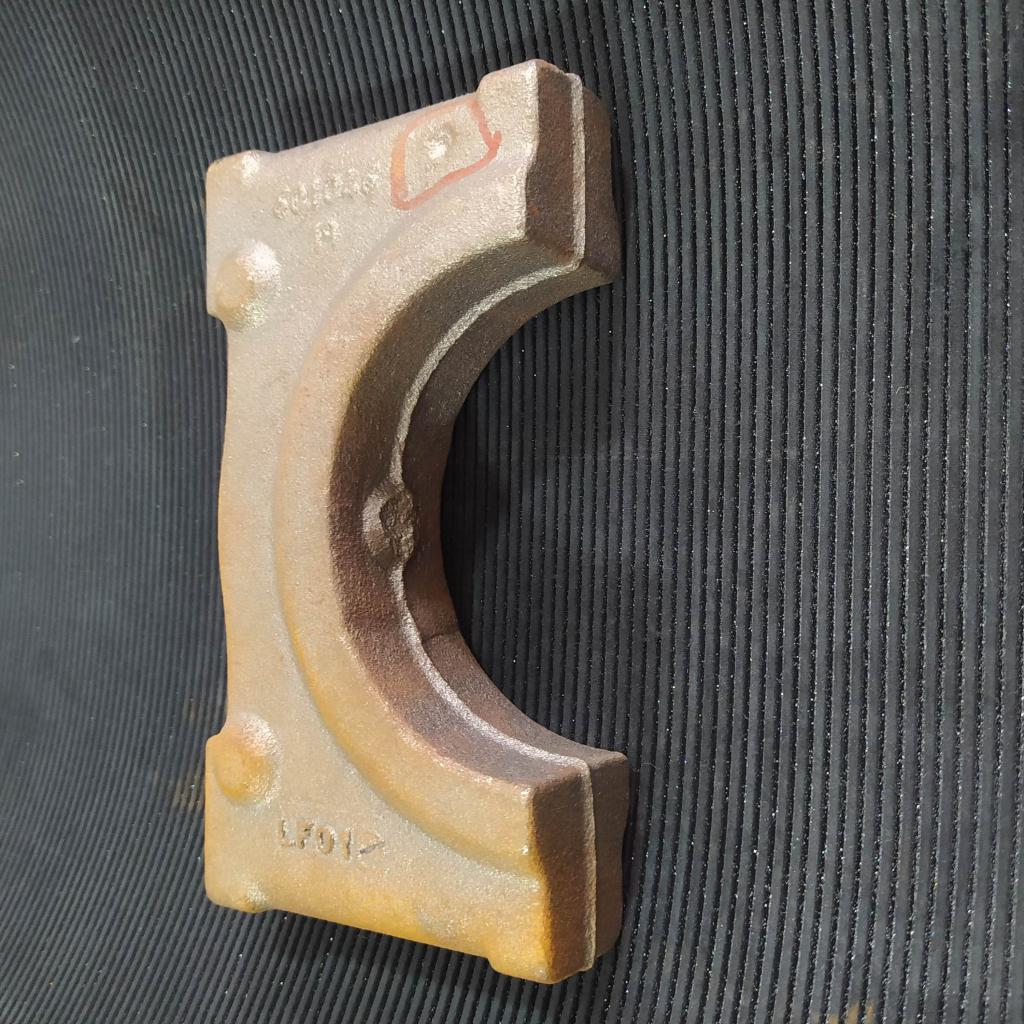buraco: (423, 122, 462, 165)
